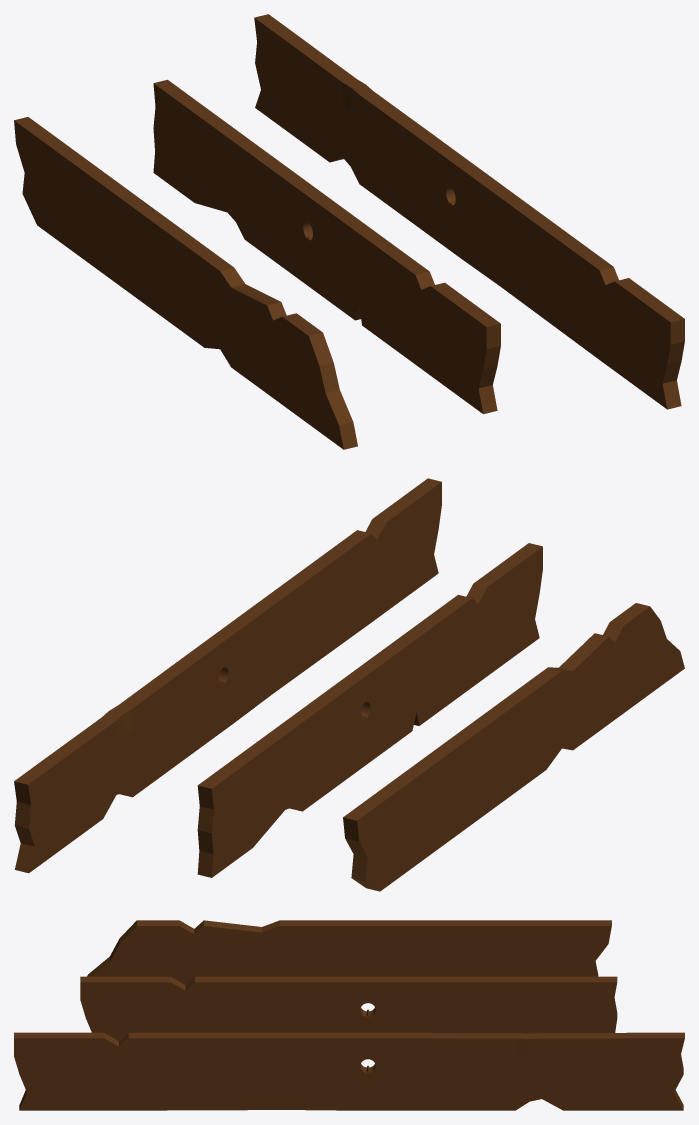
The model's file is Planks.fbx.
The picture shows the model from 3 angles, top to bottom: view 1: azimuth 30°, elevation 25°; view 2: azimuth 150°, elevation 25°; view 3: azimuth 270°, elevation 25°; orthographic projection. The views are drawn at different scales.
Visible parts, largest first — view 1: plank.002, plank, plank.001; view 2: plank.002, plank, plank.001; view 3: plank.002, plank, plank.001.
Boxes of the visible parts, x1,y1,x2,y2 form: plank.002: [254, 14, 684, 409]; plank: [153, 79, 500, 414]; plank.001: [14, 117, 357, 449]; plank.002: [14, 478, 441, 873]; plank: [197, 543, 542, 877]; plank.001: [343, 603, 684, 891]; plank.002: [14, 1032, 684, 1110]; plank: [80, 976, 617, 1040]; plank.001: [87, 920, 611, 984].
Size of the model in its own units: 105 by 30.07 by 253.
